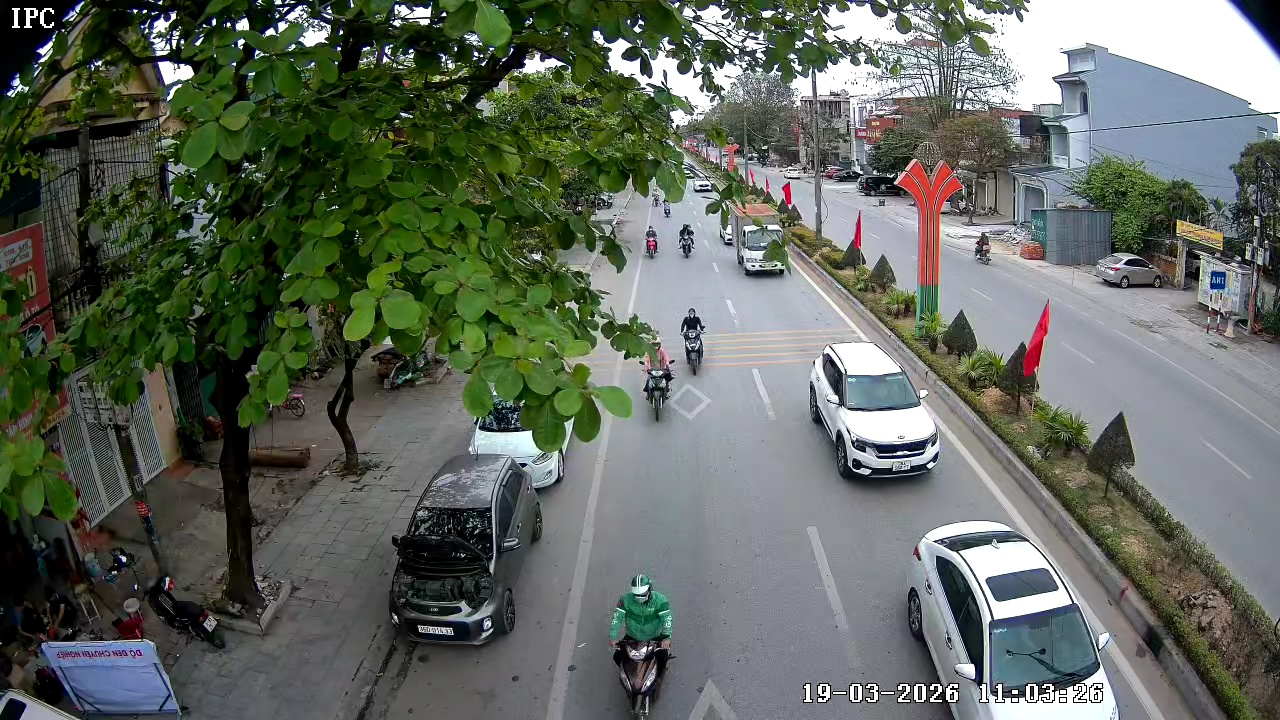car: (905, 519, 1121, 719), (388, 452, 544, 647), (808, 340, 940, 480), (468, 396, 568, 492), (736, 220, 790, 277), (1093, 250, 1164, 289)
motorbike: (607, 571, 677, 719), (641, 340, 676, 421), (680, 304, 708, 376), (605, 233, 631, 274), (973, 227, 994, 265), (678, 222, 695, 259), (642, 222, 659, 258), (720, 214, 736, 248)
truck: (736, 217, 790, 277)
